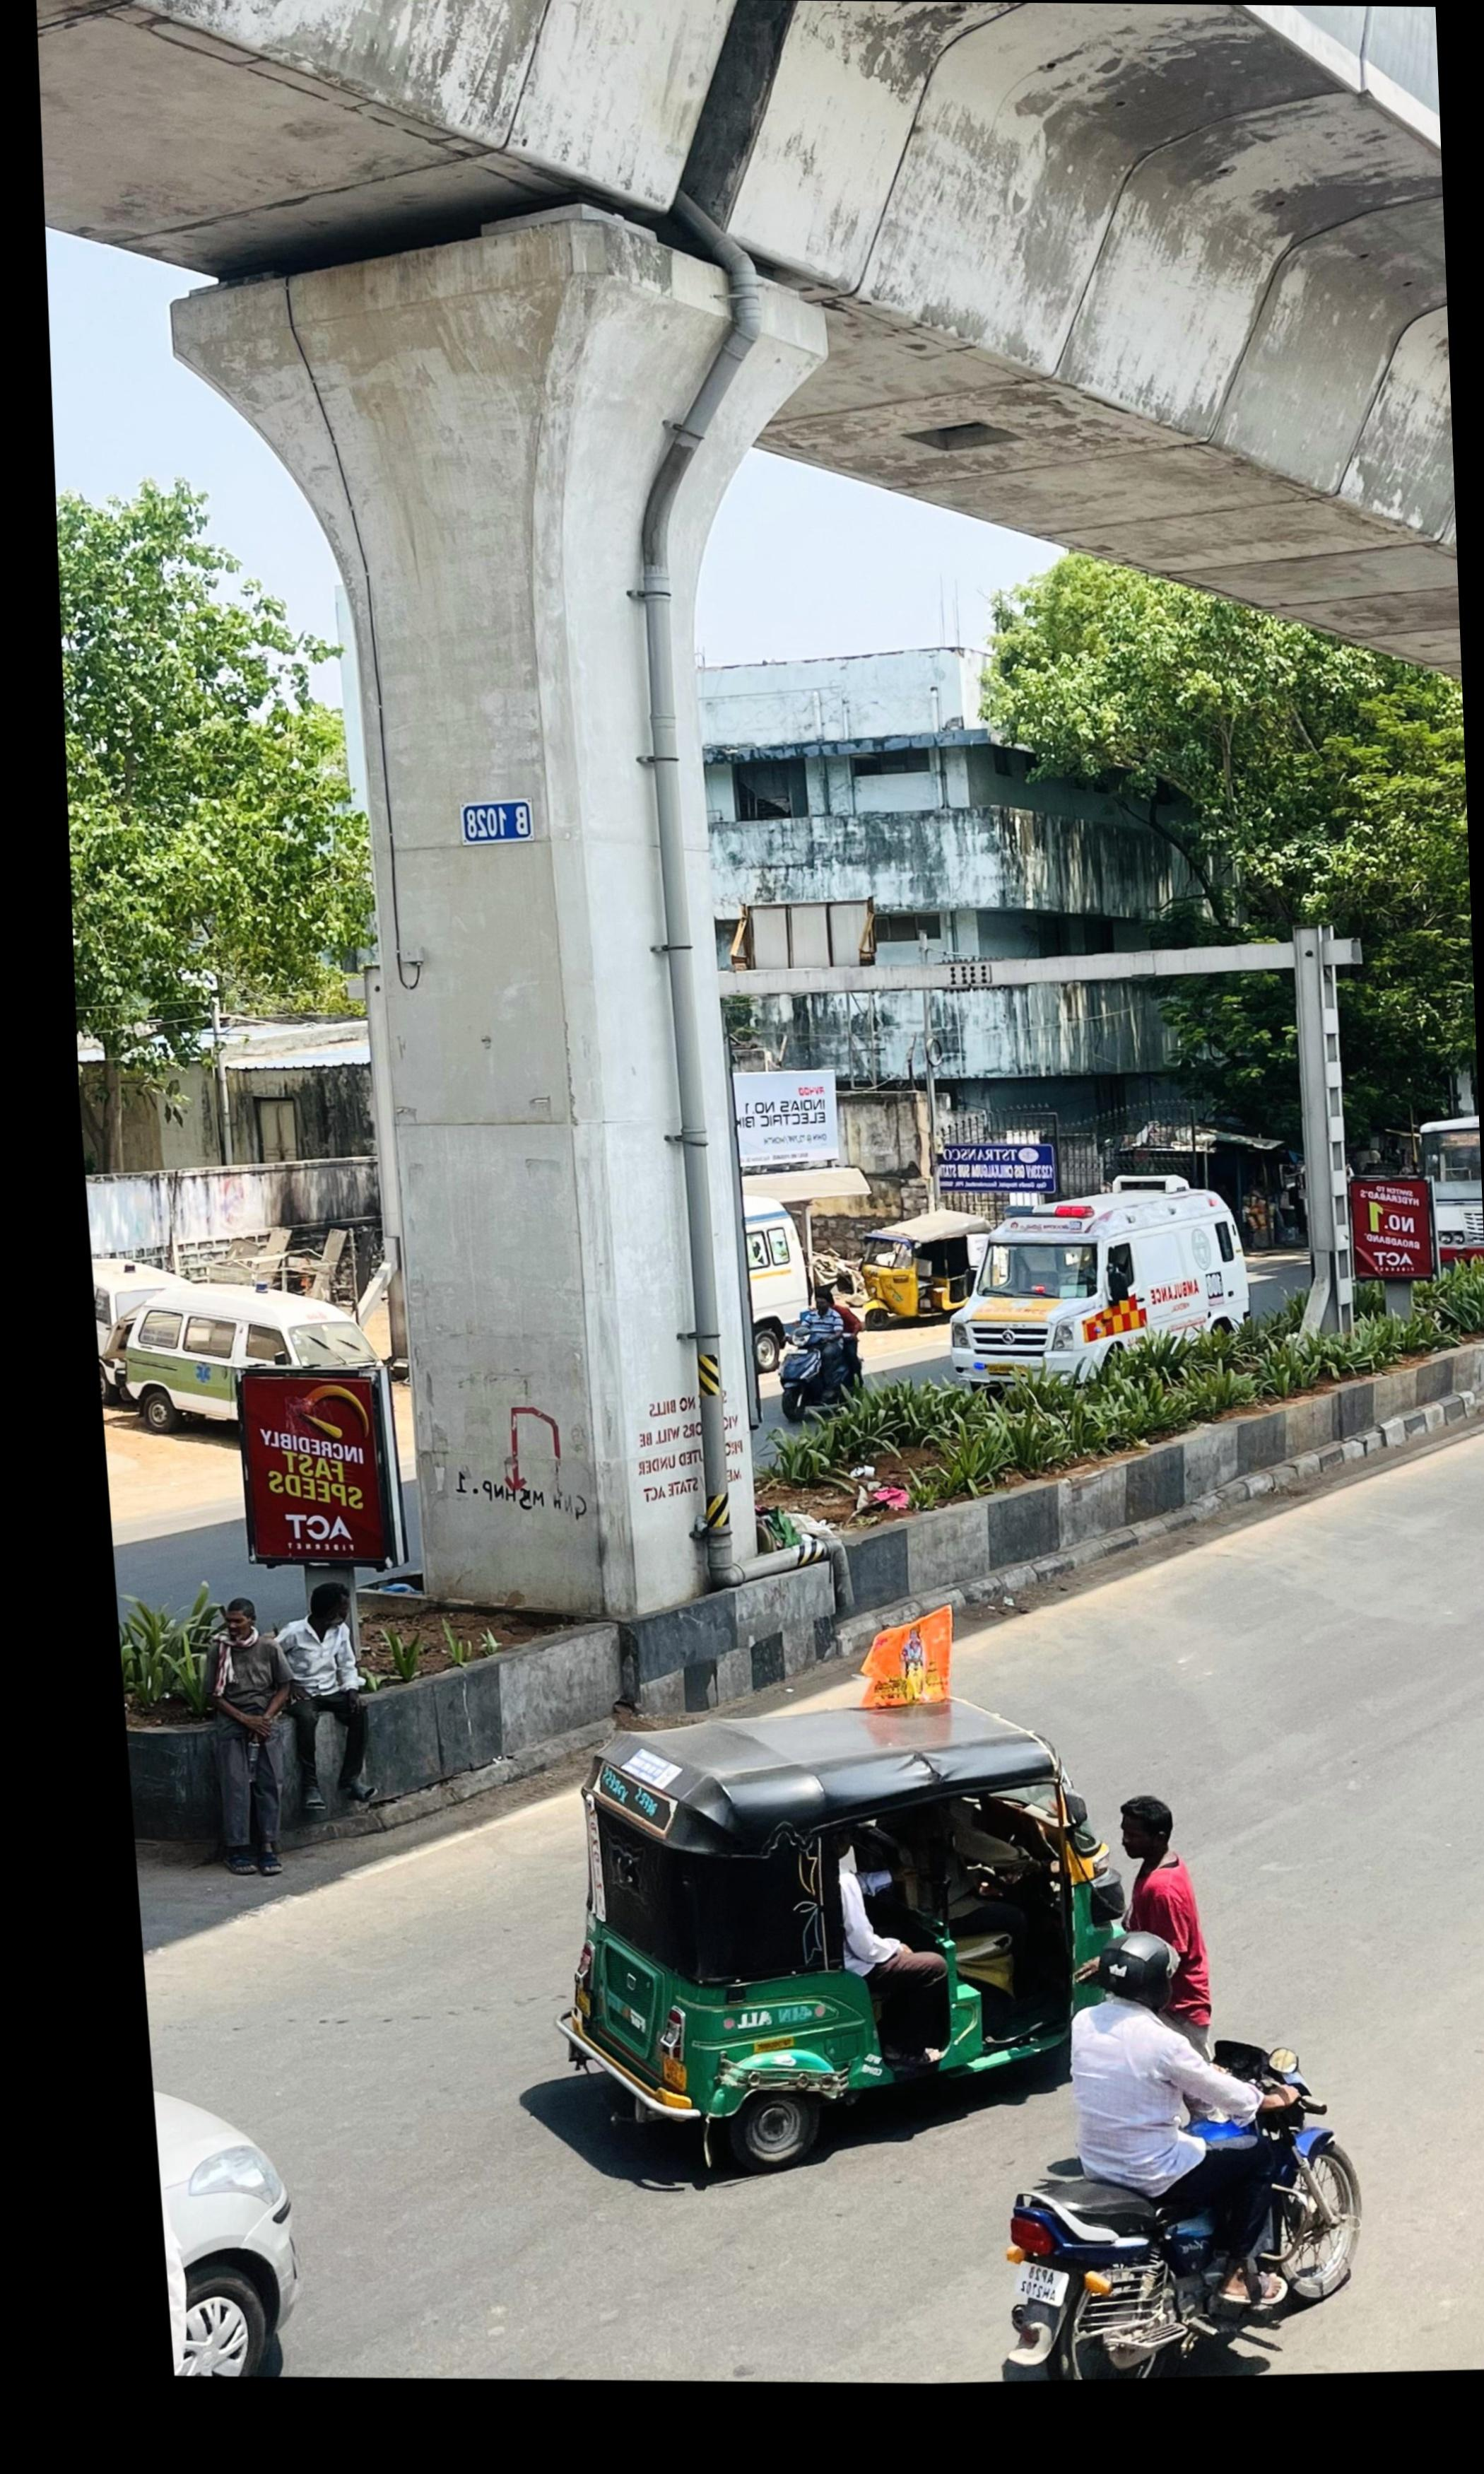ambulance: (958, 1180, 1251, 1414)
